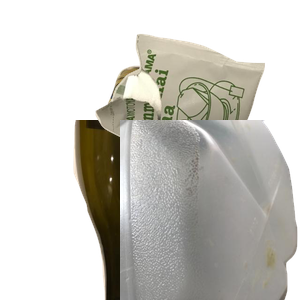glass: (71, 120, 254, 300)
metal: (105, 63, 300, 192)
plastic: (120, 120, 300, 300)
trash: (93, 31, 300, 205)
